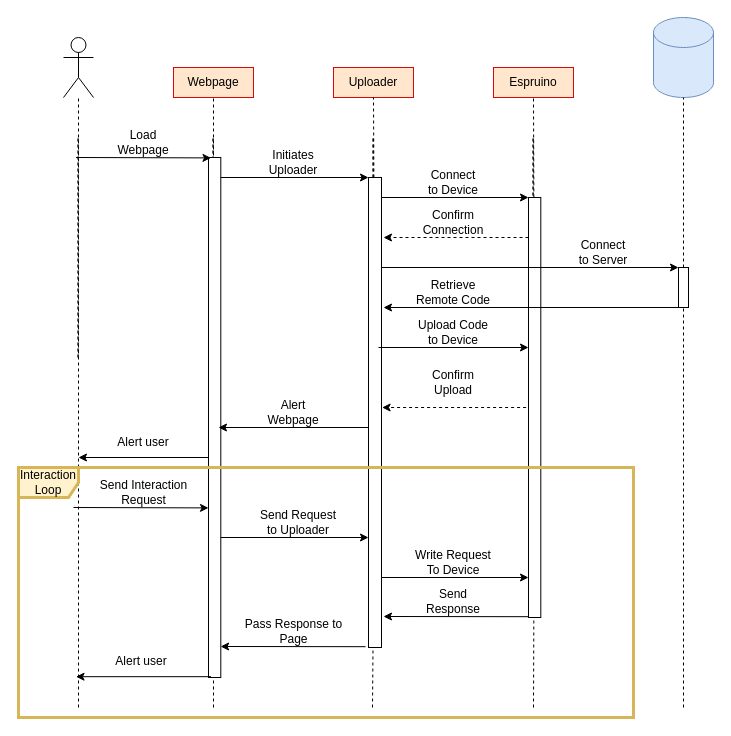
The diagram is 731 pixels wide and 736 high, and some of its shapes have lost their labels. Each missing label, with the centre of its shape:
"Repostitory" goes at (683,57).
"User" goes at (78,67).
